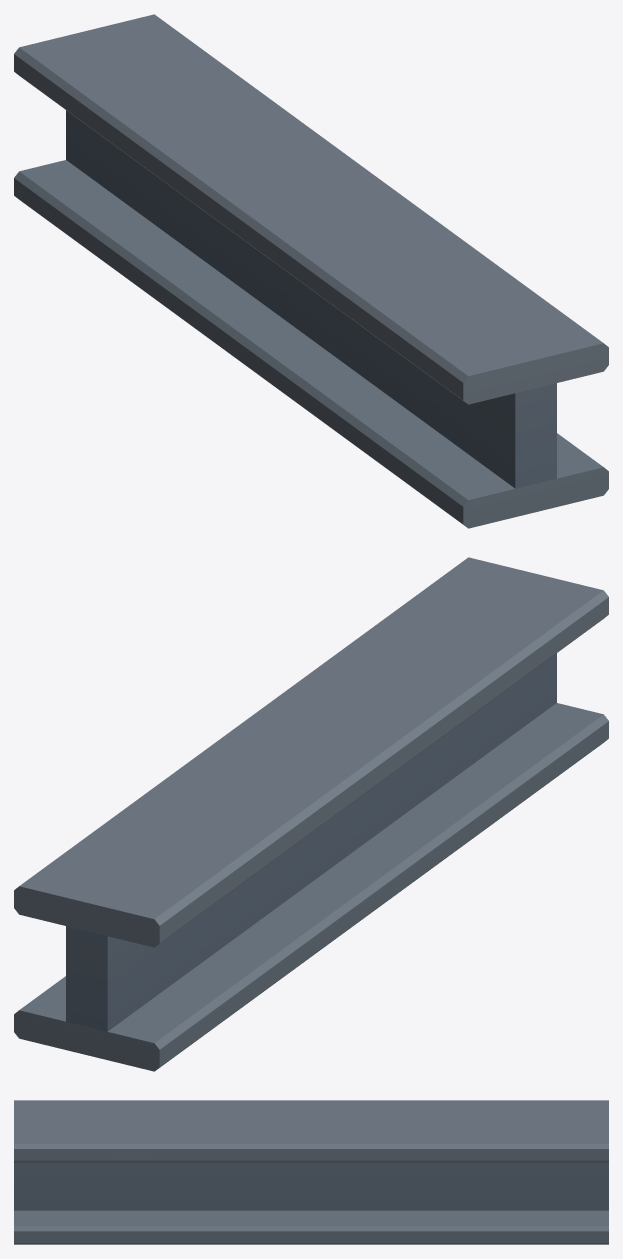
The model's file is Rail_C_2_4.fbx.
The picture shows the model from 3 angles, top to bottom: view 1: azimuth 30°, elevation 25°; view 2: azimuth 150°, elevation 25°; view 3: azimuth 270°, elevation 25°; orthographic projection. The views are drawn at different scales.
Parts seen in each view (by area): view 1: Rail_C_2_4; view 2: Rail_C_2_4; view 3: Rail_C_2_4.
Boxes of the visible parts, <box> form: Rail_C_2_4: <box>14,14,608,528</box>; Rail_C_2_4: <box>14,557,608,1071</box>; Rail_C_2_4: <box>14,1100,608,1244</box>.
Bounding box in the file's own units: 37.43 × 37.43 × 200.
